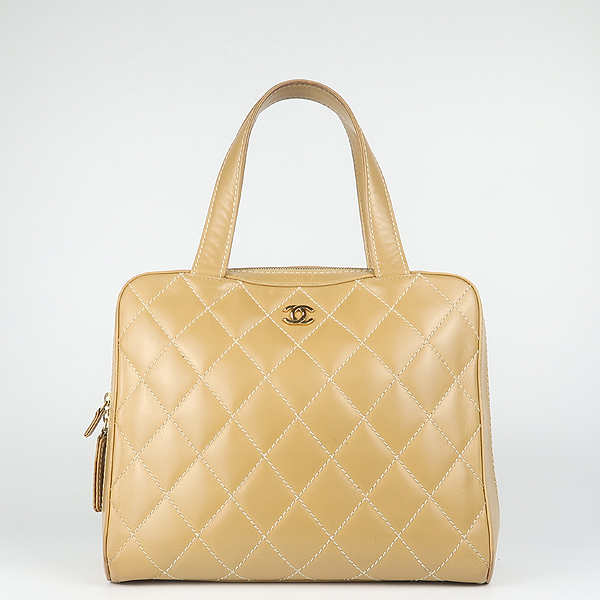channel: (103, 253, 524, 597), (279, 296, 334, 329)
